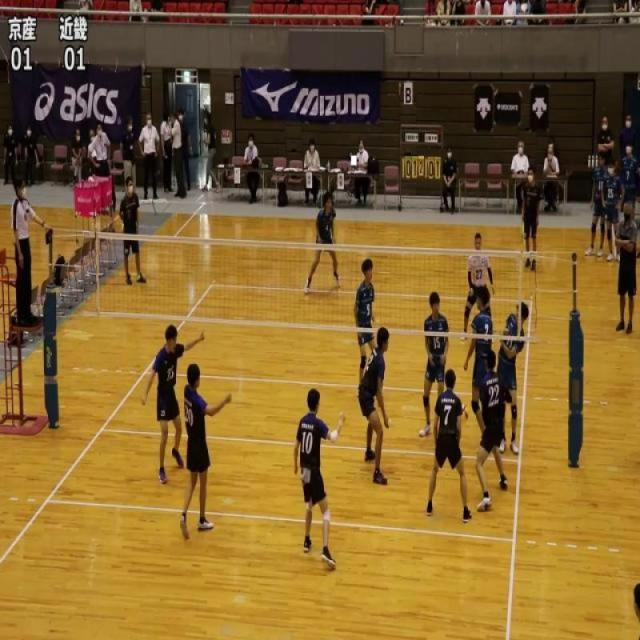volleyball: (461, 402, 469, 426)
